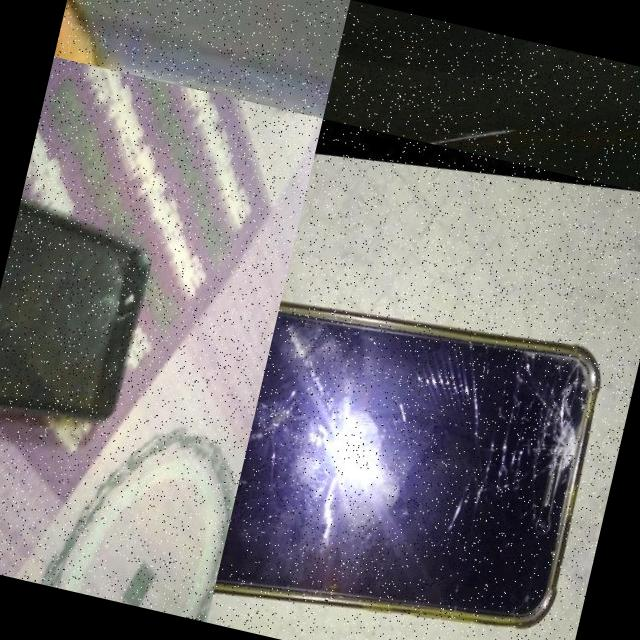scratch: (347, 87, 521, 161)
screen crack: (364, 308, 632, 572), (78, 213, 172, 366)
